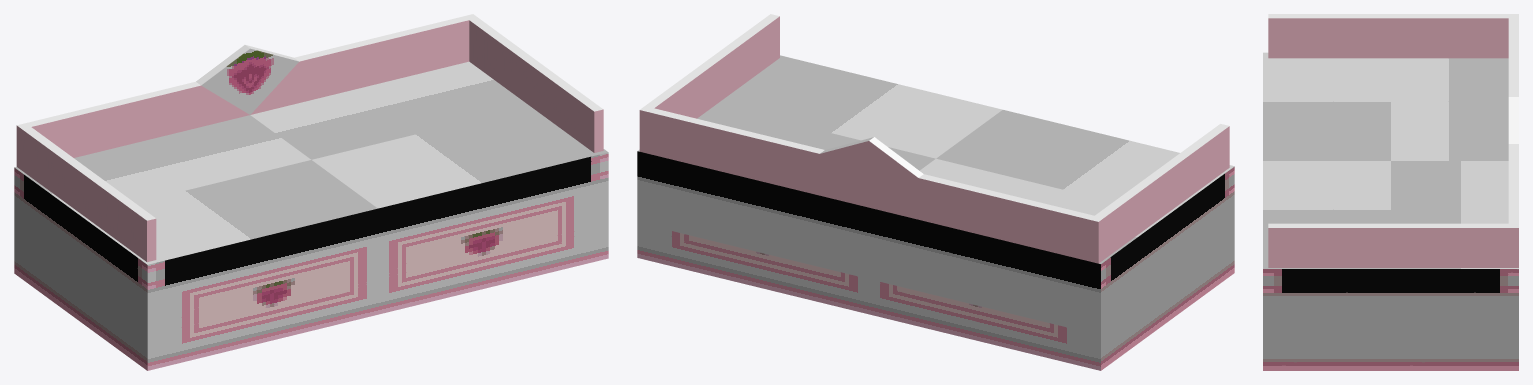
3 renders of one model, left to right at view 1: azimuth 30°, elevation 25°; view 2: azimuth 150°, elevation 25°; view 3: azimuth 270°, elevation 25°, orthographic. The views are drawn at different scales.
Visible parts, largest first — view 1: 3654kg_case_21; view 2: 3654kg_case_21; view 3: 3654kg_case_21.
Part boxes in pixels (bbox=[...]): 3654kg_case_21: bbox=[14, 14, 608, 370]; 3654kg_case_21: bbox=[637, 14, 1234, 370]; 3654kg_case_21: bbox=[1263, 14, 1518, 370].
Size of the model in its own units: 2 by 0.7153 by 1.
3 materials, 3 textured.
